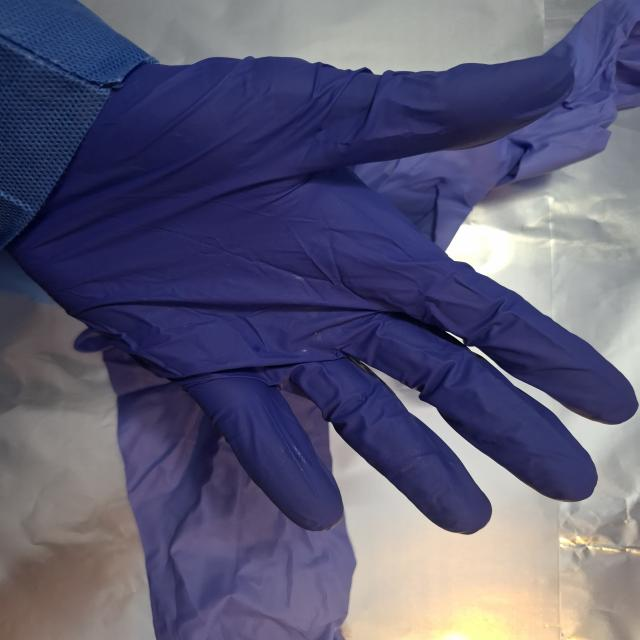glove_on: (6, 51, 640, 536)
